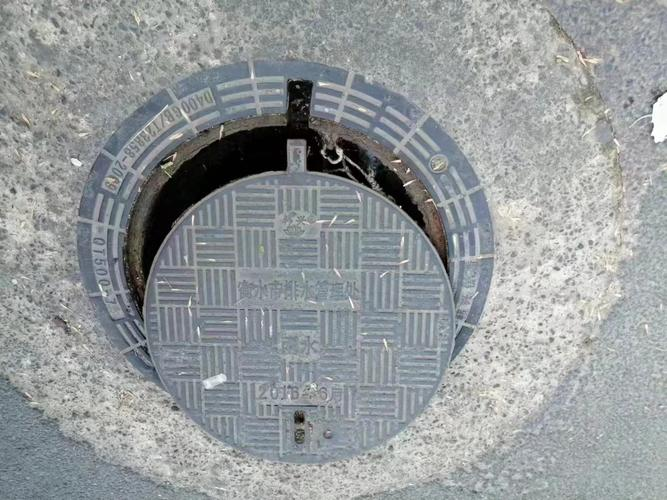uncovered: (54, 48, 540, 462)
